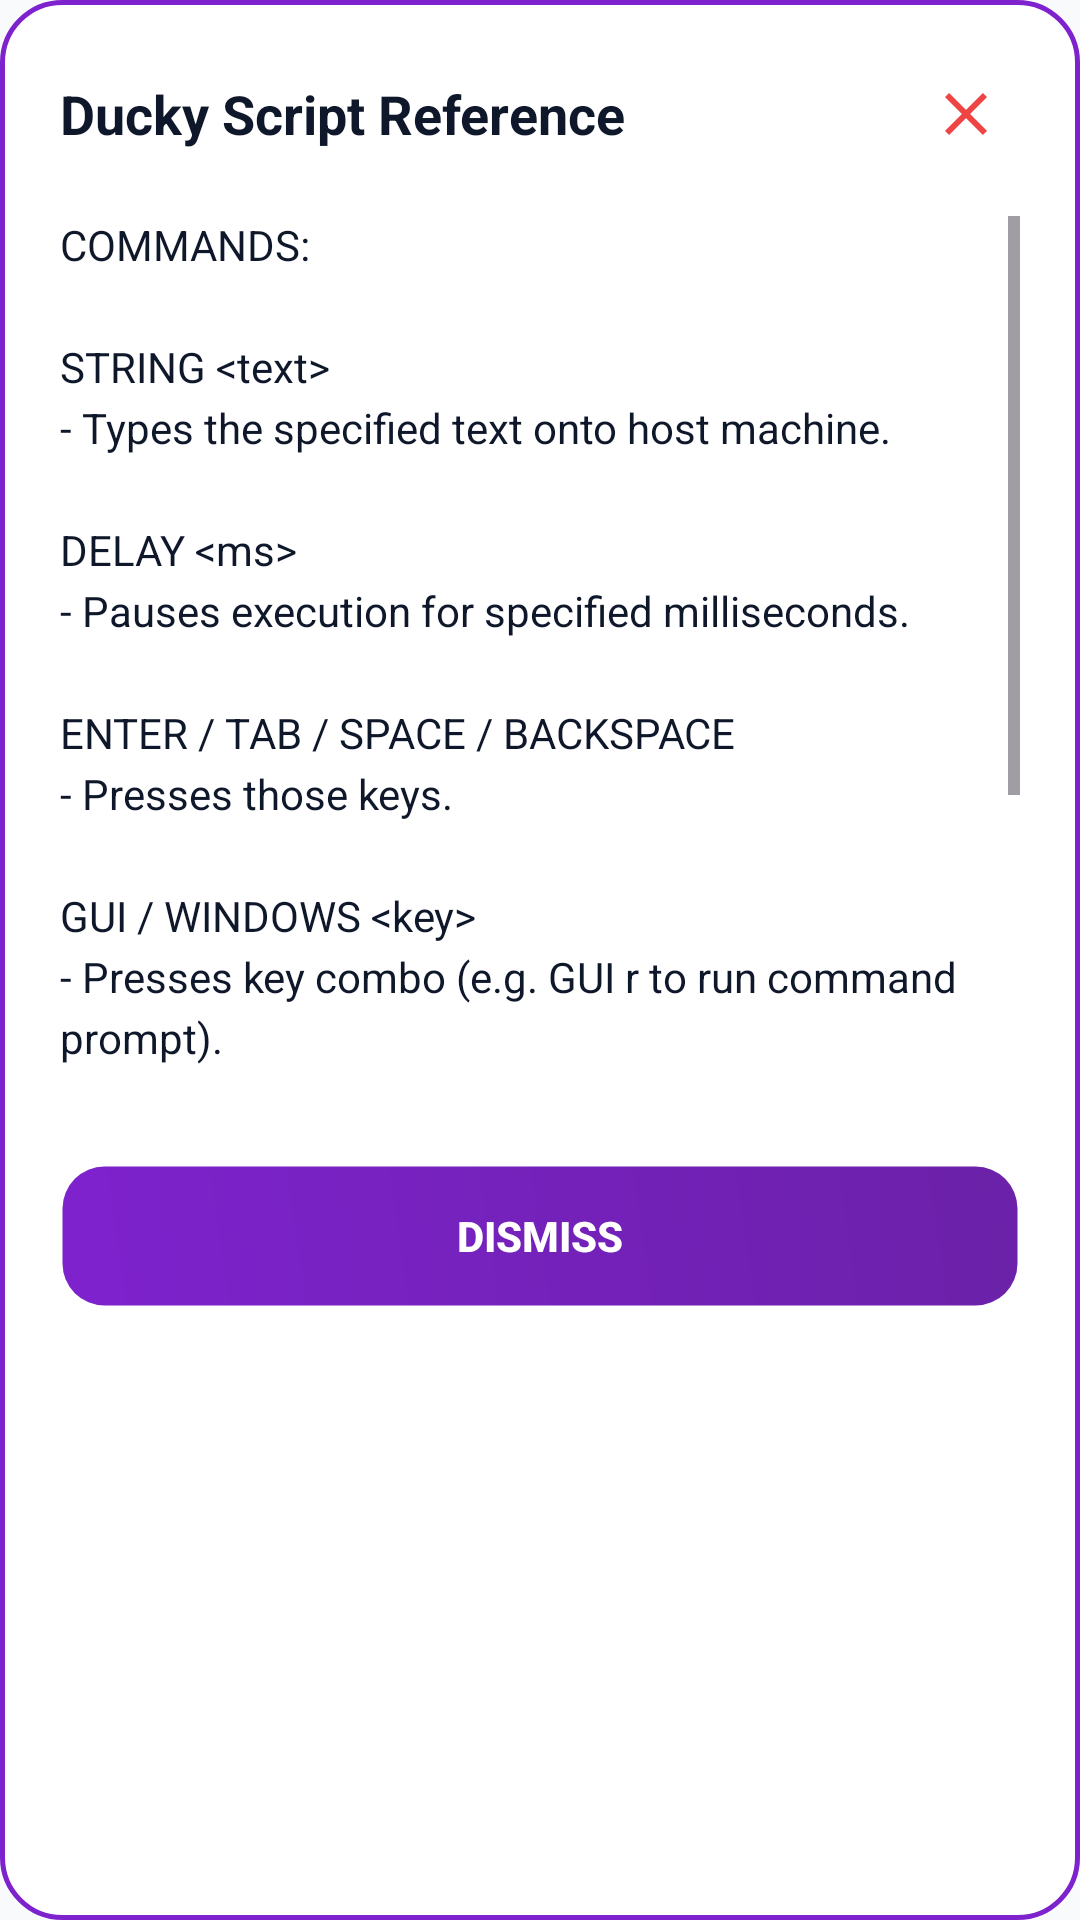

Where to tap for icons on this 1080*1920 app screen, as [x,y]:
Close Popup: [966,114]
